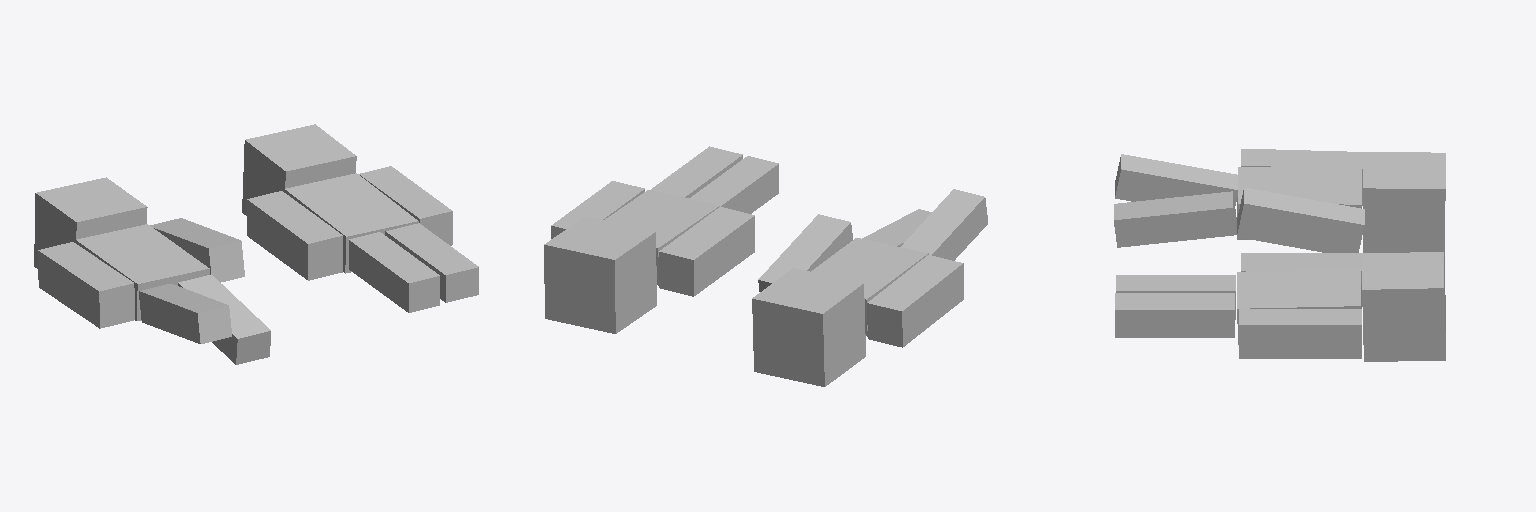
Rendered from steve_000006.obj.
3 renders of one model, left to right at view 1: azimuth 30°, elevation 25°; view 2: azimuth 150°, elevation 25°; view 3: azimuth 270°, elevation 25°, orthographic.
Parts seen in each view (by area): view 1: Cube.001_Cube.002, Cube_Cube.001; view 2: Cube_Cube.001, Cube.001_Cube.002; view 3: Cube_Cube.001, Cube.001_Cube.002.
Boxes of the visible parts, x1,y1,x2,y2 form: Cube.001_Cube.002: [242, 124, 478, 312]; Cube_Cube.001: [34, 177, 270, 364]; Cube_Cube.001: [752, 189, 987, 386]; Cube.001_Cube.002: [544, 146, 778, 333]; Cube_Cube.001: [1114, 149, 1445, 256]; Cube.001_Cube.002: [1115, 252, 1445, 361].
Size of the model in its own units: 6.55 by 1.38 by 5.36.